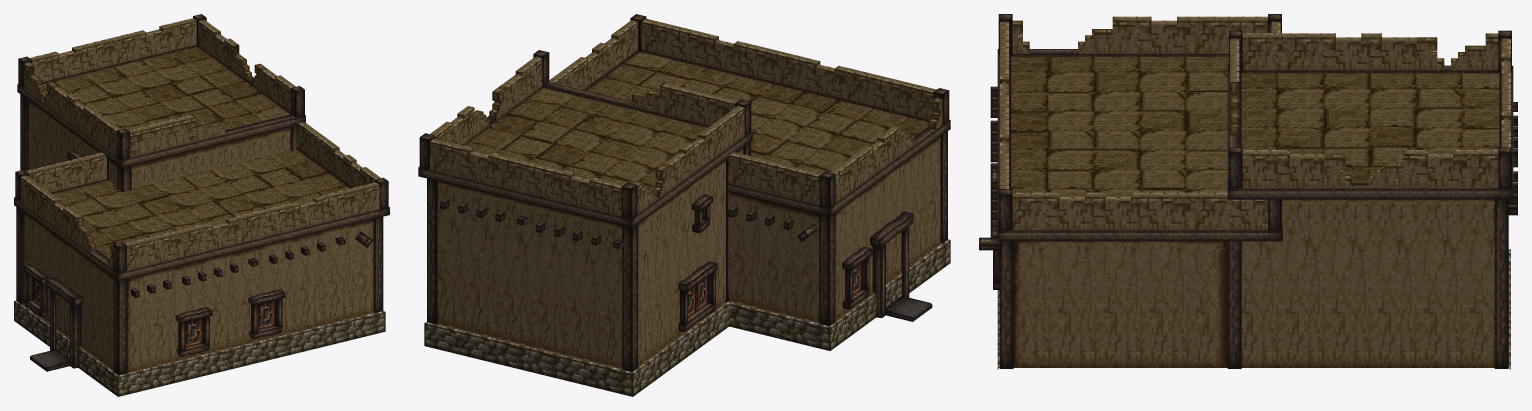
The model's file is EnvBdgMD_Desert_B_Outdoor_Orphanage.FBX.
3 renders of one model, left to right at view 1: azimuth 30°, elevation 25°; view 2: azimuth 150°, elevation 25°; view 3: azimuth 270°, elevation 25°, orthographic. The views are drawn at different scales.
Visible parts, largest first — view 1: EnvBdgMD_Desert_B_Outdoor_Orphanage; view 2: EnvBdgMD_Desert_B_Outdoor_Orphanage; view 3: EnvBdgMD_Desert_B_Outdoor_Orphanage.
Boxes of the visible parts, x1,y1,x2,y2 form: EnvBdgMD_Desert_B_Outdoor_Orphanage: (14, 14, 389, 396); EnvBdgMD_Desert_B_Outdoor_Orphanage: (418, 14, 950, 396); EnvBdgMD_Desert_B_Outdoor_Orphanage: (979, 14, 1517, 369).
Size of the model in its own units: 1030 by 590 by 1170.
